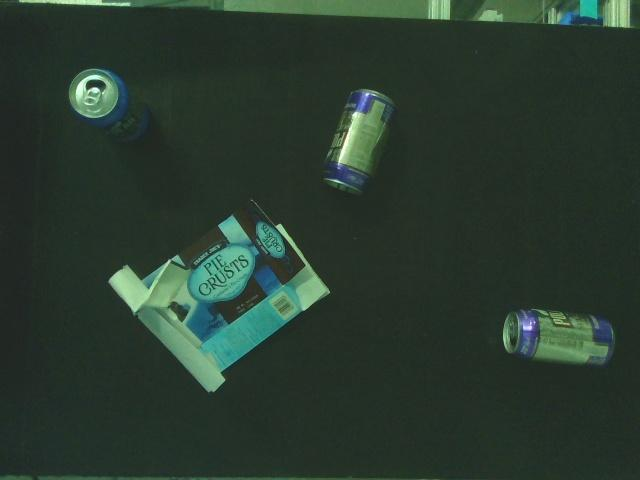cardboard: (106, 193, 332, 396)
metal: (321, 85, 398, 200), (502, 305, 618, 371), (68, 65, 154, 148)
